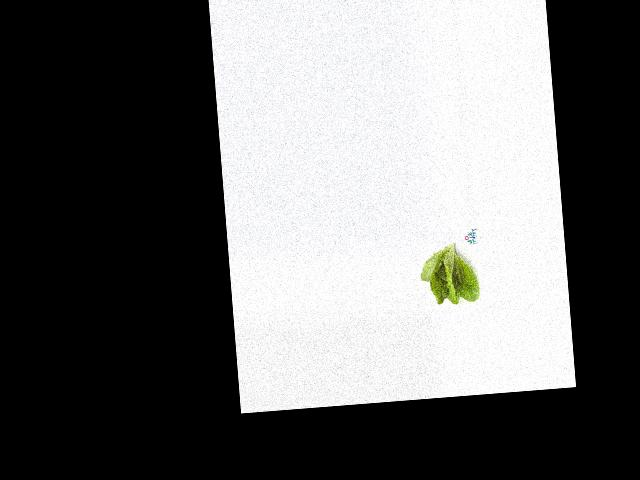lettuce: (417, 241, 479, 309)
